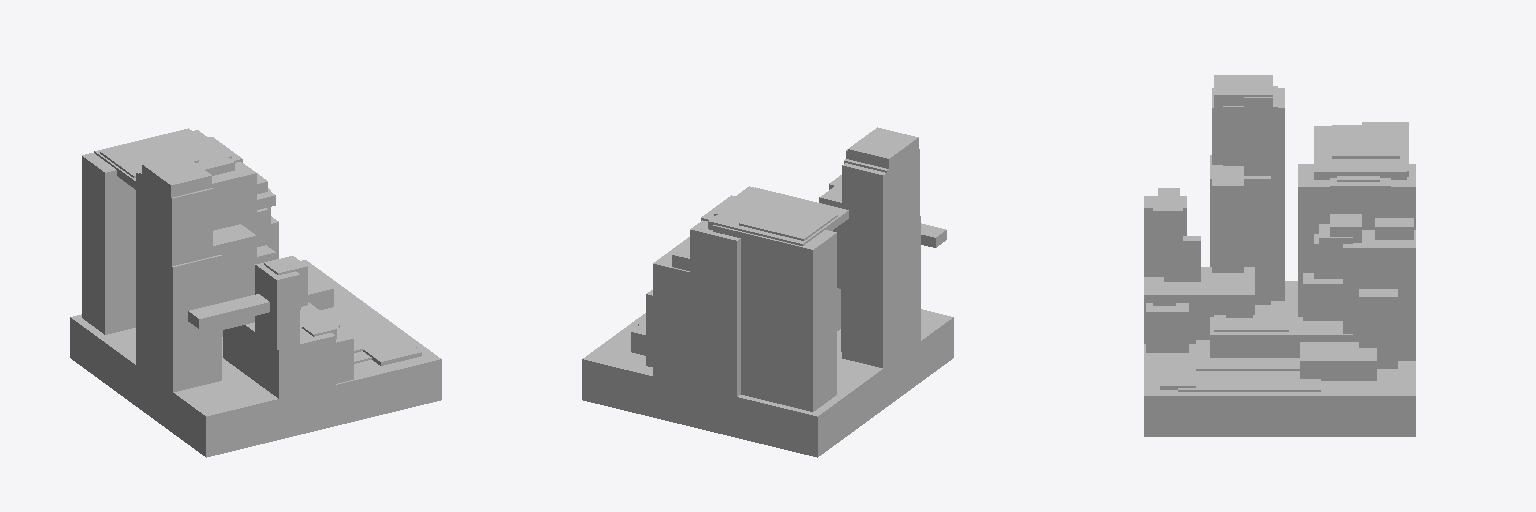
Rendered from 3d fon 2.1-1.obj.
3 views of the same model, side by side, from view 1: azimuth 30°, elevation 25°; view 2: azimuth 150°, elevation 25°; view 3: azimuth 270°, elevation 25° (orthographic).
Parts seen in each view (by area): view 1: object 1; view 2: object 1; view 3: object 1.
Part boxes in pixels (x1,y1,x2,y2): object 1: (70, 128, 441, 457); object 1: (582, 127, 953, 457); object 1: (1144, 75, 1415, 436).
Bounding box in the file's own units: 12 × 12 × 12.